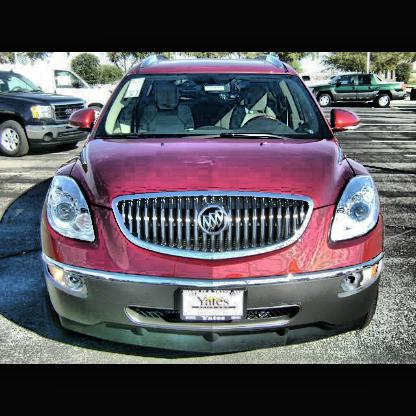Buick Enclave SUV 2012: (37, 57, 387, 357)
